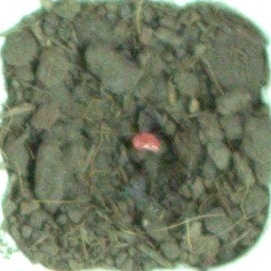pepper seed: (47, 52, 213, 207)
